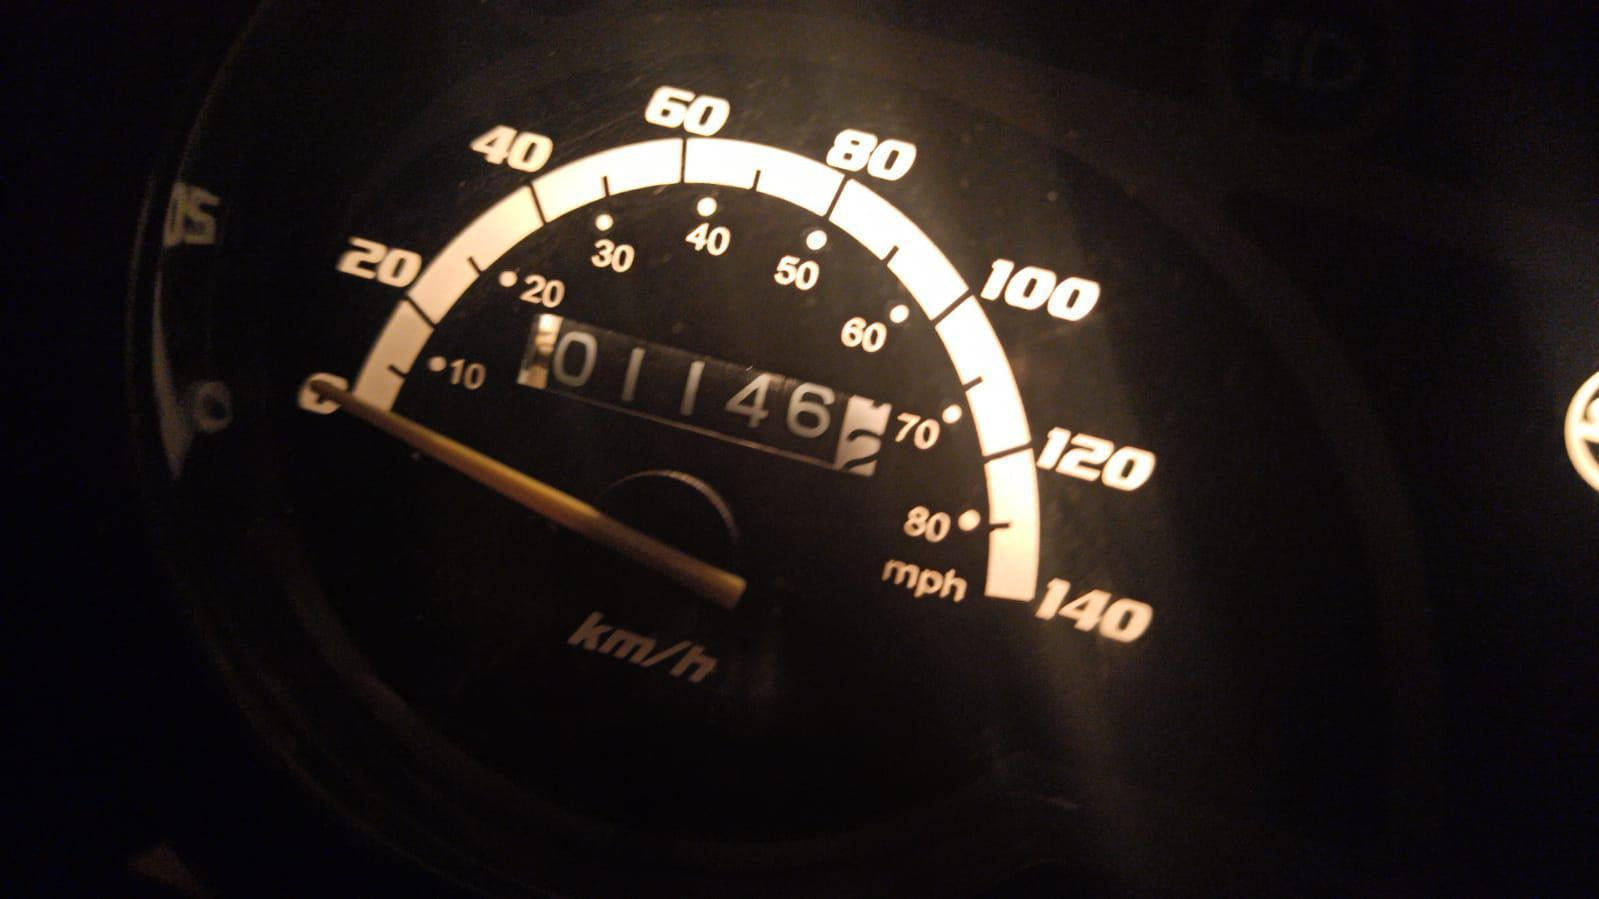0: (549, 324, 599, 386), (859, 315, 887, 353)
1: (673, 353, 711, 422), (620, 334, 649, 407)
2: (845, 419, 885, 477)
4: (725, 362, 775, 431)
6: (785, 377, 834, 438), (840, 313, 868, 351)
odometer: (512, 310, 896, 484)
